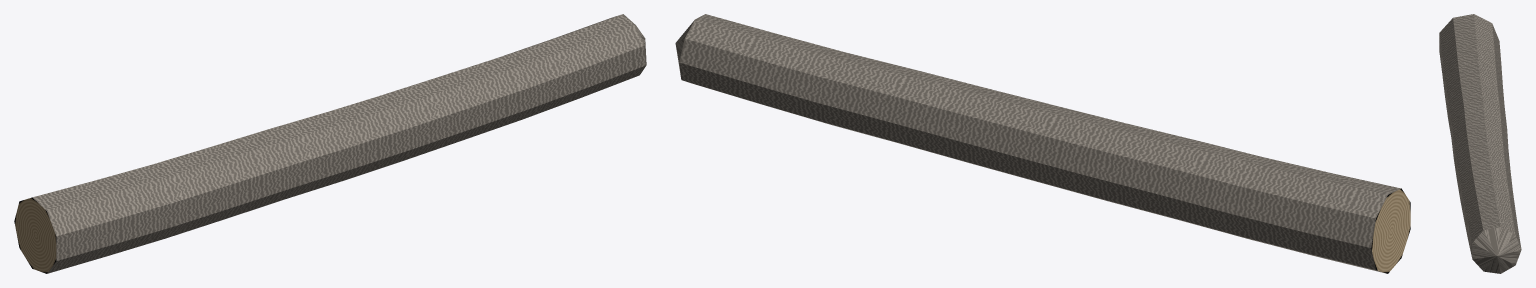
Rendered from 쓰러진통나무_01.fbx.
The picture shows the model from 3 angles, left to right: view 1: azimuth 30°, elevation 25°; view 2: azimuth 150°, elevation 25°; view 3: azimuth 270°, elevation 25°; orthographic projection. The views are drawn at different scales.
Visible parts, largest first — view 1: 쓰러진통나무_01; view 2: 쓰러진통나무_01; view 3: 쓰러진통나무_01.
Part boxes in pixels (box(x1,y1,x2,y2)): 쓰러진통나무_01: box(14, 14, 646, 273); 쓰러진통나무_01: box(675, 14, 1410, 273); 쓰러진통나무_01: box(1439, 14, 1521, 273).
Bounding box in the file's own units: 4002 × 570 × 582.
Materials: 2 (2 with a texture image).
